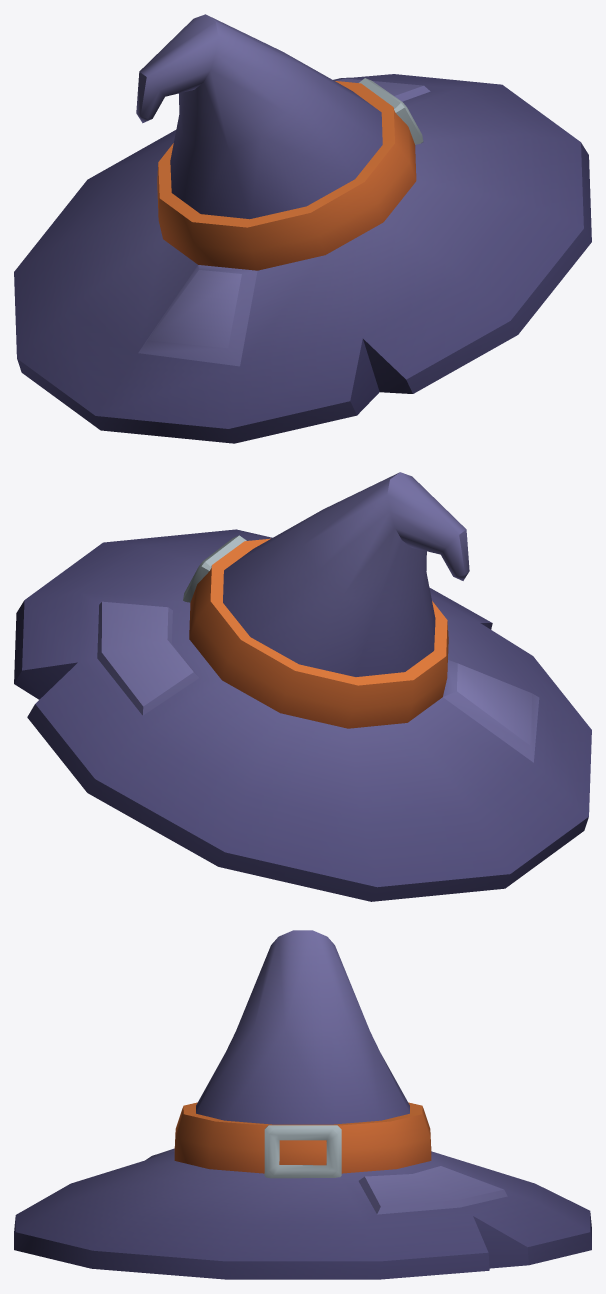
Rendered from hat_01.glb.
3 views of the same model, one above another, from view 1: azimuth 30°, elevation 25°; view 2: azimuth 150°, elevation 25°; view 3: azimuth 270°, elevation 25° (orthographic). The views are drawn at different scales.
Visible parts, largest first — view 1: Mage_Hat; view 2: Mage_Hat; view 3: Mage_Hat.
Boxes of the visible parts, <box> form: Mage_Hat: <box>14,14,591,443</box>; Mage_Hat: <box>14,472,591,901</box>; Mage_Hat: <box>14,930,591,1279</box>.
Bounding box in the file's own units: 2.02 × 1.36 × 2.09.
Materials: 1 (1 with a texture image).
